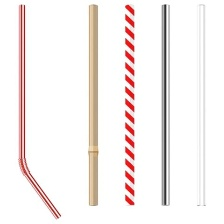drinking_straw: (10, 1, 66, 222), (119, 1, 140, 211), (156, 2, 176, 210), (83, 1, 102, 211), (190, 1, 209, 211)
